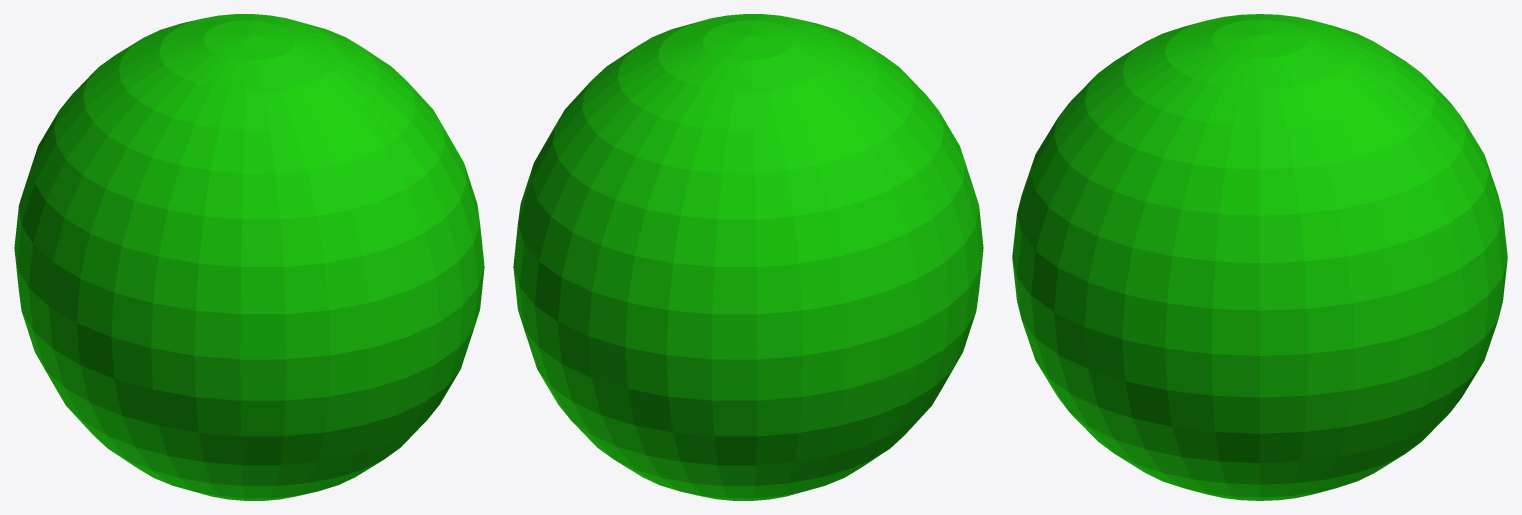
File: enemyslime.obj
3 views of the same model, side by side, from view 1: azimuth 30°, elevation 25°; view 2: azimuth 150°, elevation 25°; view 3: azimuth 270°, elevation 25° (orthographic).
Parts seen in each view (by area): view 1: Sphere; view 2: Sphere; view 3: Sphere.
Part boxes in pixels (x1,y1,x2,y2): Sphere: (14, 14, 484, 500); Sphere: (513, 14, 983, 500); Sphere: (1012, 14, 1507, 500).
Bounding box in the file's own units: 2 × 2.11 × 2.13.
